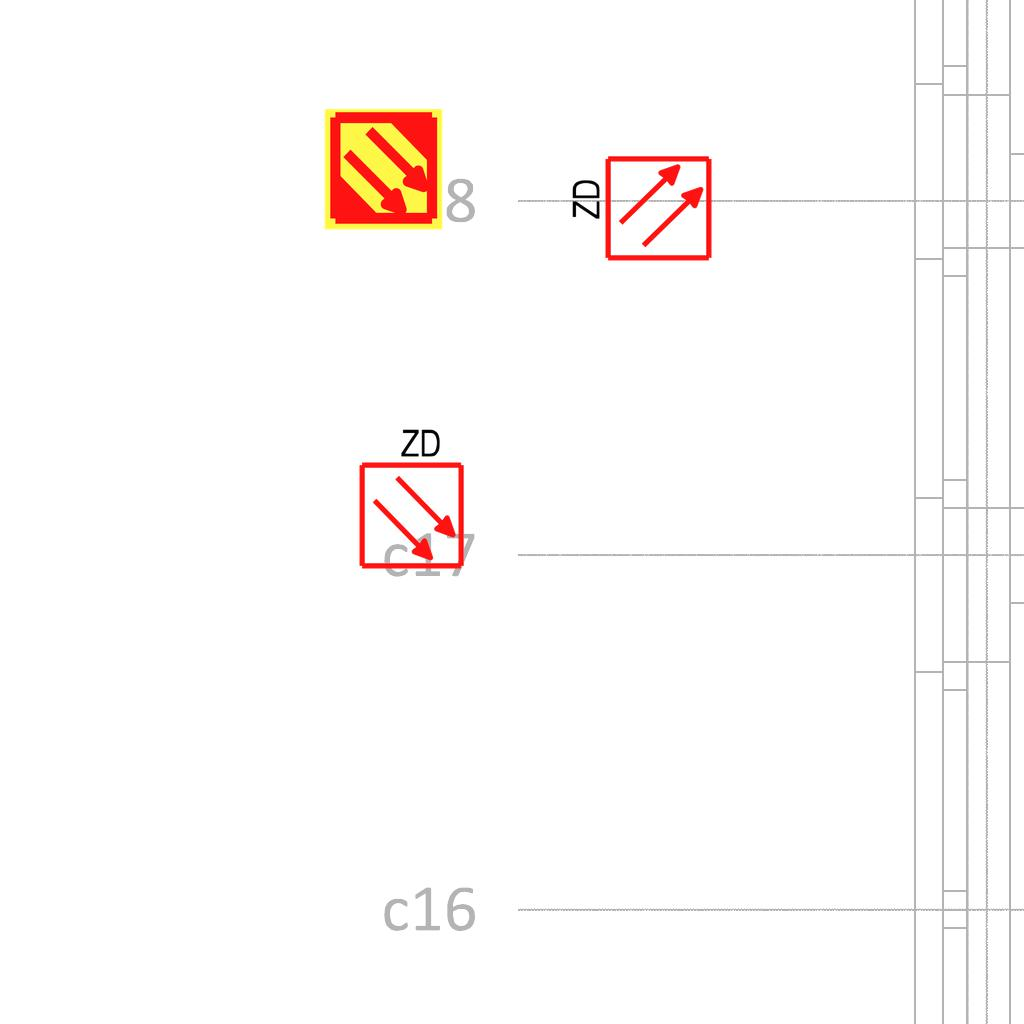ASR_Ansaugrauchmelder: (321, 107, 446, 232)
ZD_Melder_in_Zwischendecke_mit_Revisionsoeffnung_mind_40_x_40_cm: (353, 422, 467, 571), (565, 153, 714, 267)
